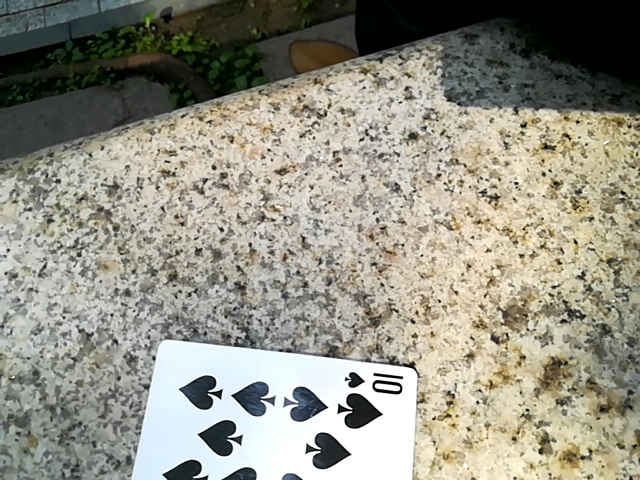ht 10: (120, 338, 425, 480)
